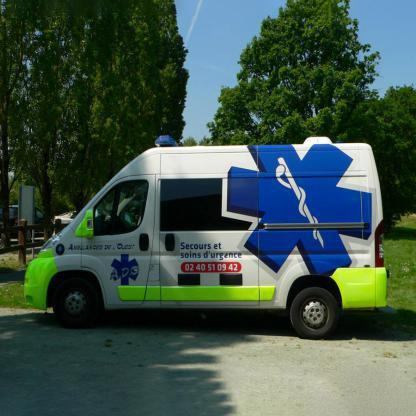Ambulance - v1 Ambulance last generate: (23, 125, 393, 331)
